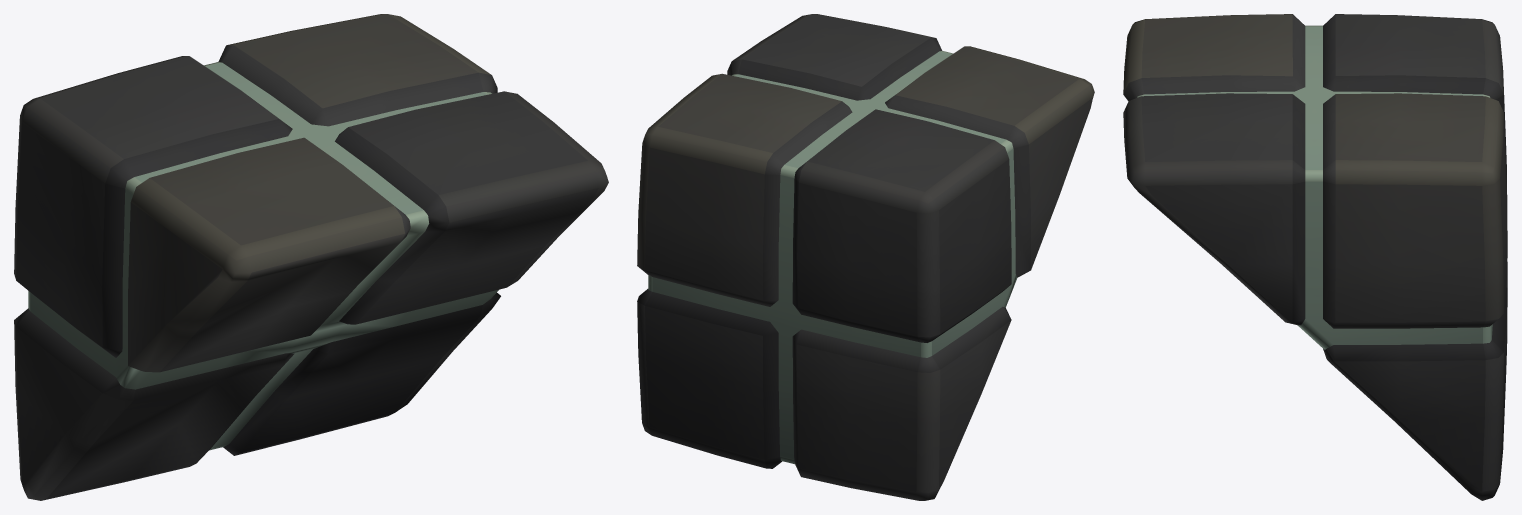
The model's file is Brick_Black_SlopeUnder_2.fbx.
3 renders of one model, left to right at view 1: azimuth 30°, elevation 25°; view 2: azimuth 150°, elevation 25°; view 3: azimuth 270°, elevation 25°, orthographic. The views are drawn at different scales.
Parts seen in each view (by area): view 1: Brick_Black_SlopeUnder_2_LOD0; view 2: Brick_Black_SlopeUnder_2_LOD0; view 3: Brick_Black_SlopeUnder_2_LOD0.
Part boxes in pixels (bbox=[...]): Brick_Black_SlopeUnder_2_LOD0: bbox=[14, 14, 608, 500]; Brick_Black_SlopeUnder_2_LOD0: bbox=[637, 14, 1094, 500]; Brick_Black_SlopeUnder_2_LOD0: bbox=[1123, 14, 1507, 500].
Size of what is drawn, in the model's own units: 1.08 by 1.07 by 1.07.
